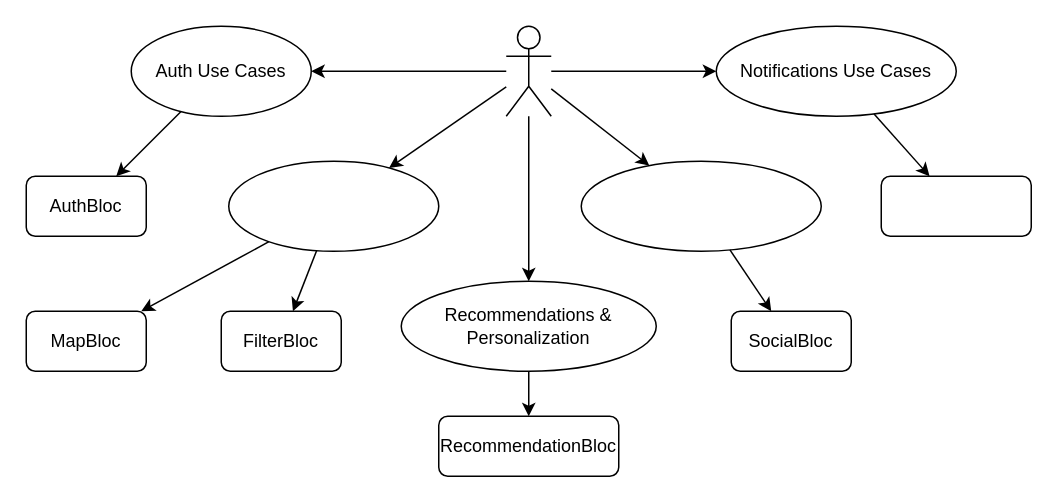
Some shapes in this 1058 by 503 pixel diagram are drawn without their labels. The shapes that lost their labels are listed below. From the top down, each one's box as (x1, y1, x2, y2) in pixels, then its label:
(505, 25, 551, 116): User
(227, 160, 439, 251): Map & Filter Use Cases
(580, 160, 821, 251): Social & Sharing Use Cases
(880, 175, 1031, 236): NotificationBloc
